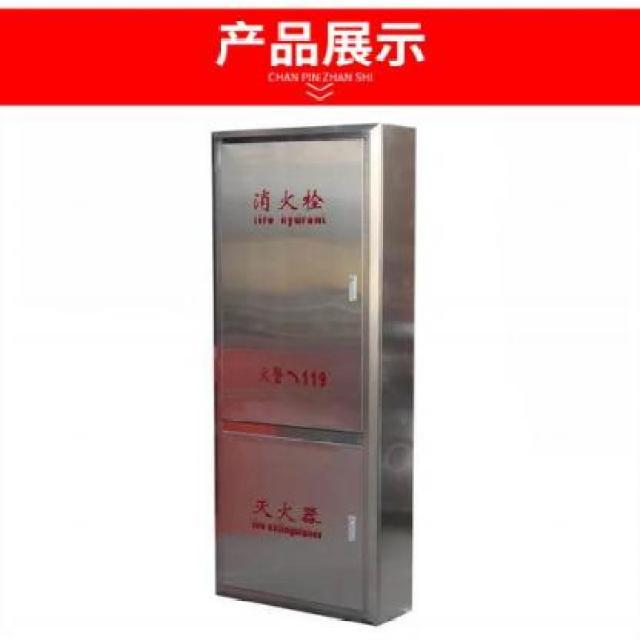firehydrant: (204, 120, 420, 633)
